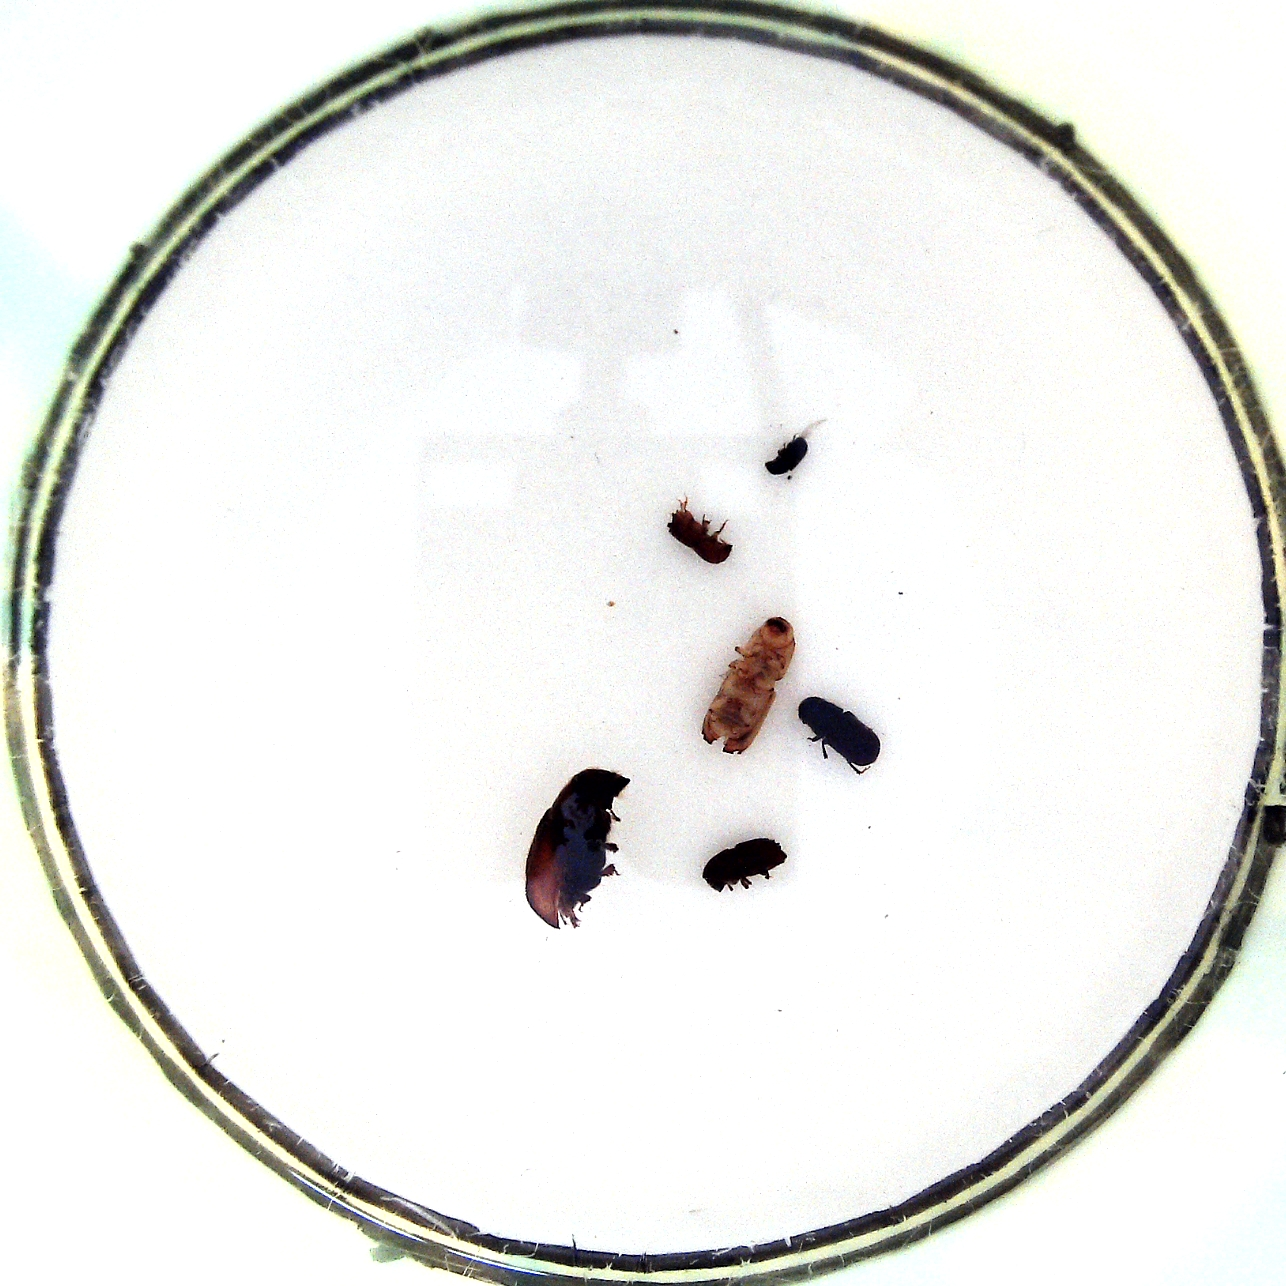Boerner: (692, 618, 798, 760)
Leconte: (522, 765, 632, 933)
Linnaeus: (702, 834, 787, 895)
acuminatus: (663, 493, 735, 562)
armandi: (797, 692, 889, 769)
coleoptera: (764, 429, 815, 484)
